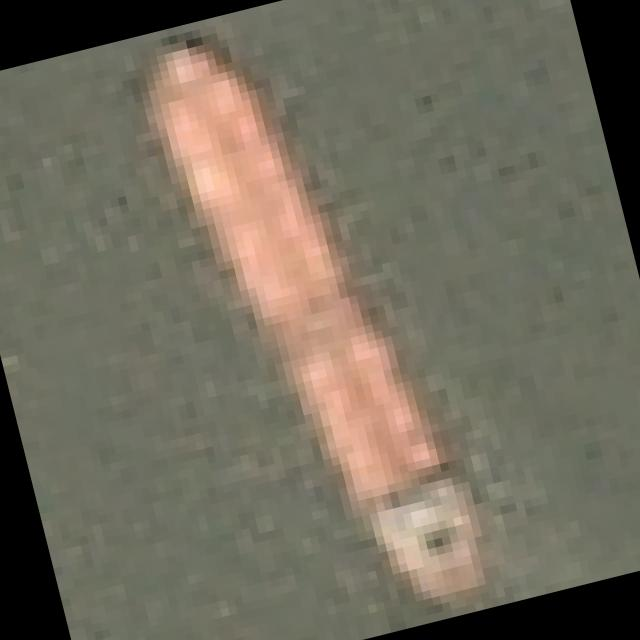ship: (64, 0, 568, 640)
